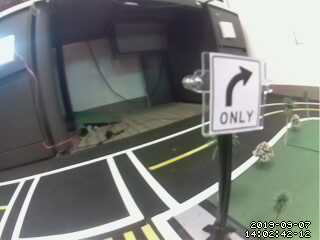Right_only_sign: (207, 53, 261, 129)
